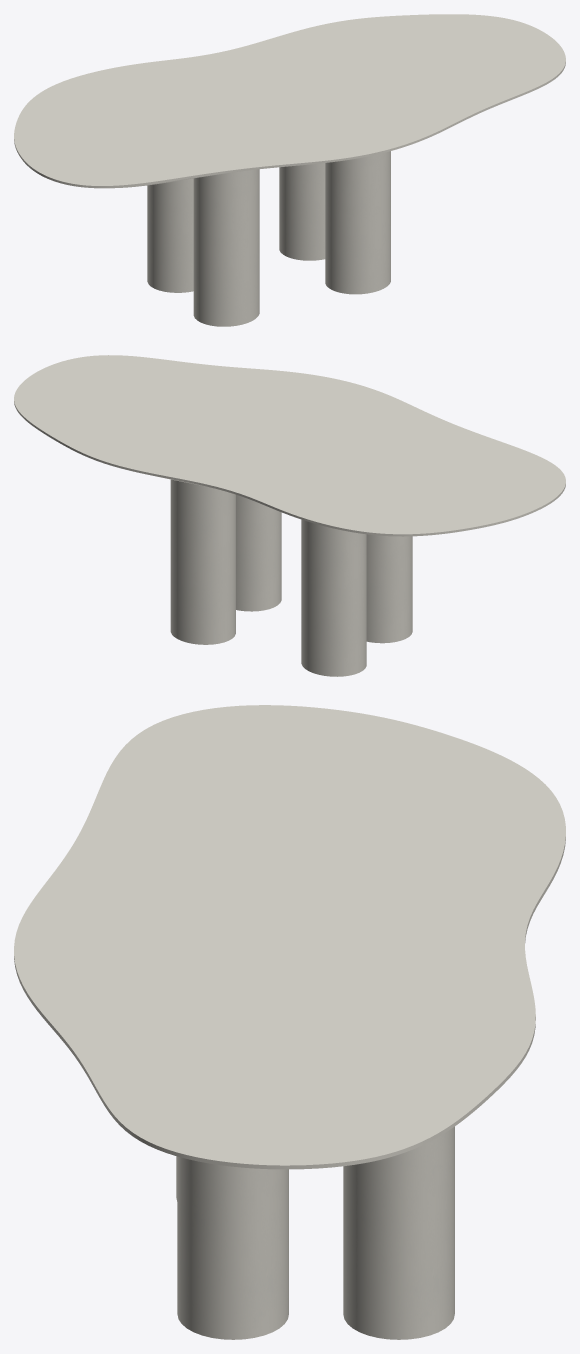
Rendered from pale_toplast_facet_grove.glb.
3 views of the same model, one above another, from view 1: azimuth 30°, elevation 25°; view 2: azimuth 150°, elevation 25°; view 3: azimuth 270°, elevation 25° (orthographic). The views are drawn at different scales.
Visible parts, largest first — view 1: facet_toplast, grove; view 2: facet_toplast, grove; view 3: facet_toplast, grove.
Part boxes in pixels (left/top/right/bottom): facet_toplast: left=14, top=14, right=565, bottom=188; grove: left=147, top=151, right=390, bottom=326; facet_toplast: left=14, top=355, right=565, bottom=536; grove: left=170, top=479, right=412, bottom=676; facet_toplast: left=14, top=705, right=565, bottom=1169; grove: left=176, top=1126, right=454, bottom=1339.
Size of the model in its own units: 7.5 by 2.51 by 3.8.
1 material, 1 textured.
